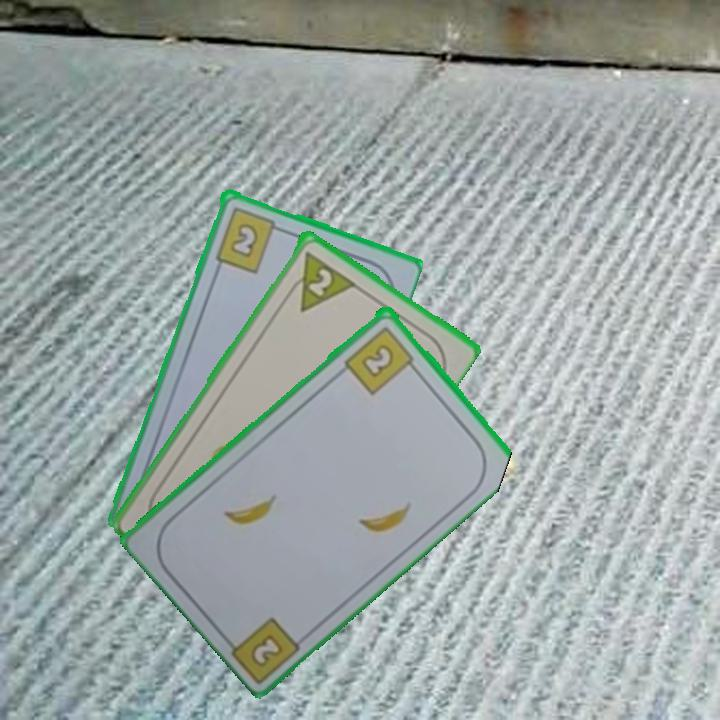2b: (341, 322, 421, 397), (211, 203, 286, 275), (246, 630, 287, 670)
2p: (280, 247, 357, 314)
